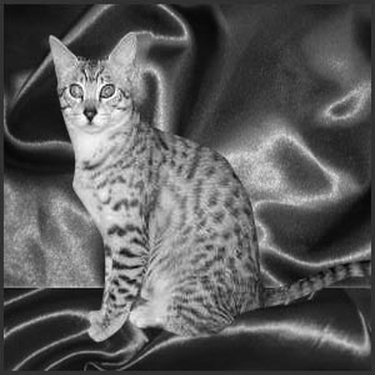cat: (18, 28, 340, 338)
